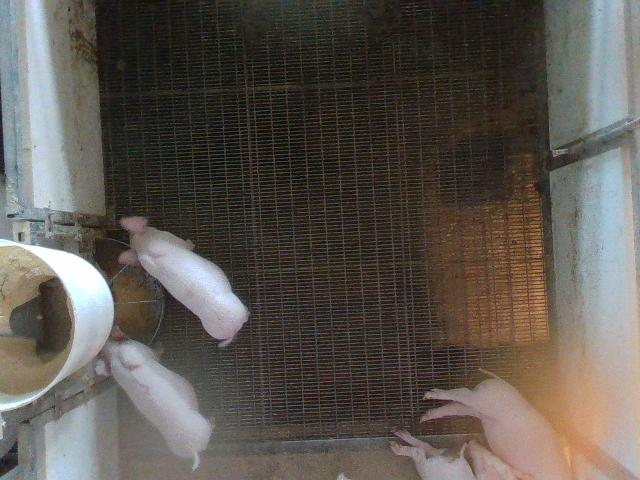pig-5: (96, 325, 211, 469)
